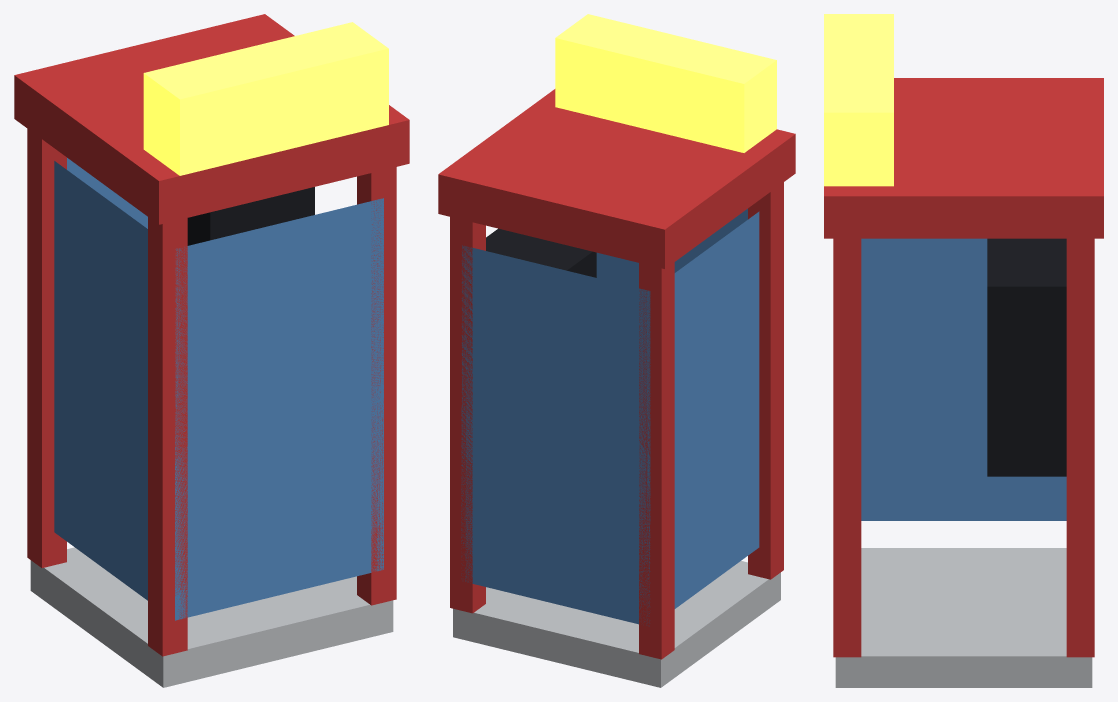
Rendered from phone_booth.glb.
3 views of the same model, side by side, from view 1: azimuth 30°, elevation 25°; view 2: azimuth 150°, elevation 25°; view 3: azimuth 270°, elevation 25° (orthographic). The views are drawn at different scales.
Visible parts, largest first — view 1: phone_booth; view 2: phone_booth; view 3: phone_booth.
Part boxes in pixels (bbox=[...]): phone_booth: bbox=[14, 14, 409, 687]; phone_booth: bbox=[438, 14, 795, 687]; phone_booth: bbox=[824, 14, 1103, 687].
Size of the model in its own units: 0.12 by 0.27 by 0.12.
